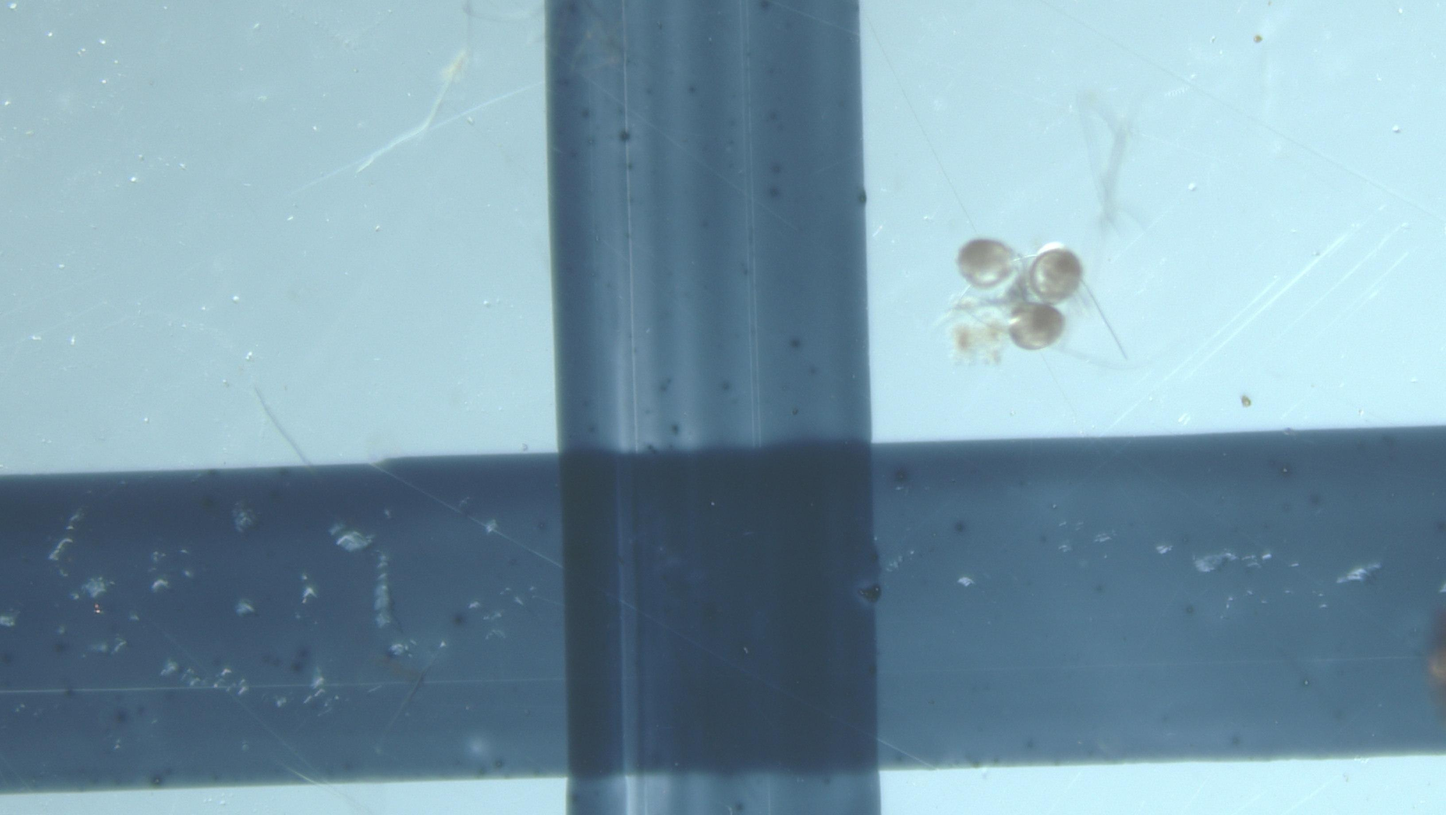live: (1026, 244, 1083, 304), (957, 239, 1017, 289), (1008, 304, 1065, 350)
